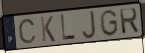C: (17, 18, 38, 45)
G: (99, 9, 120, 38)
J: (81, 10, 97, 41)
K: (39, 15, 56, 43)
L: (60, 14, 77, 41)
R: (118, 7, 140, 36)
